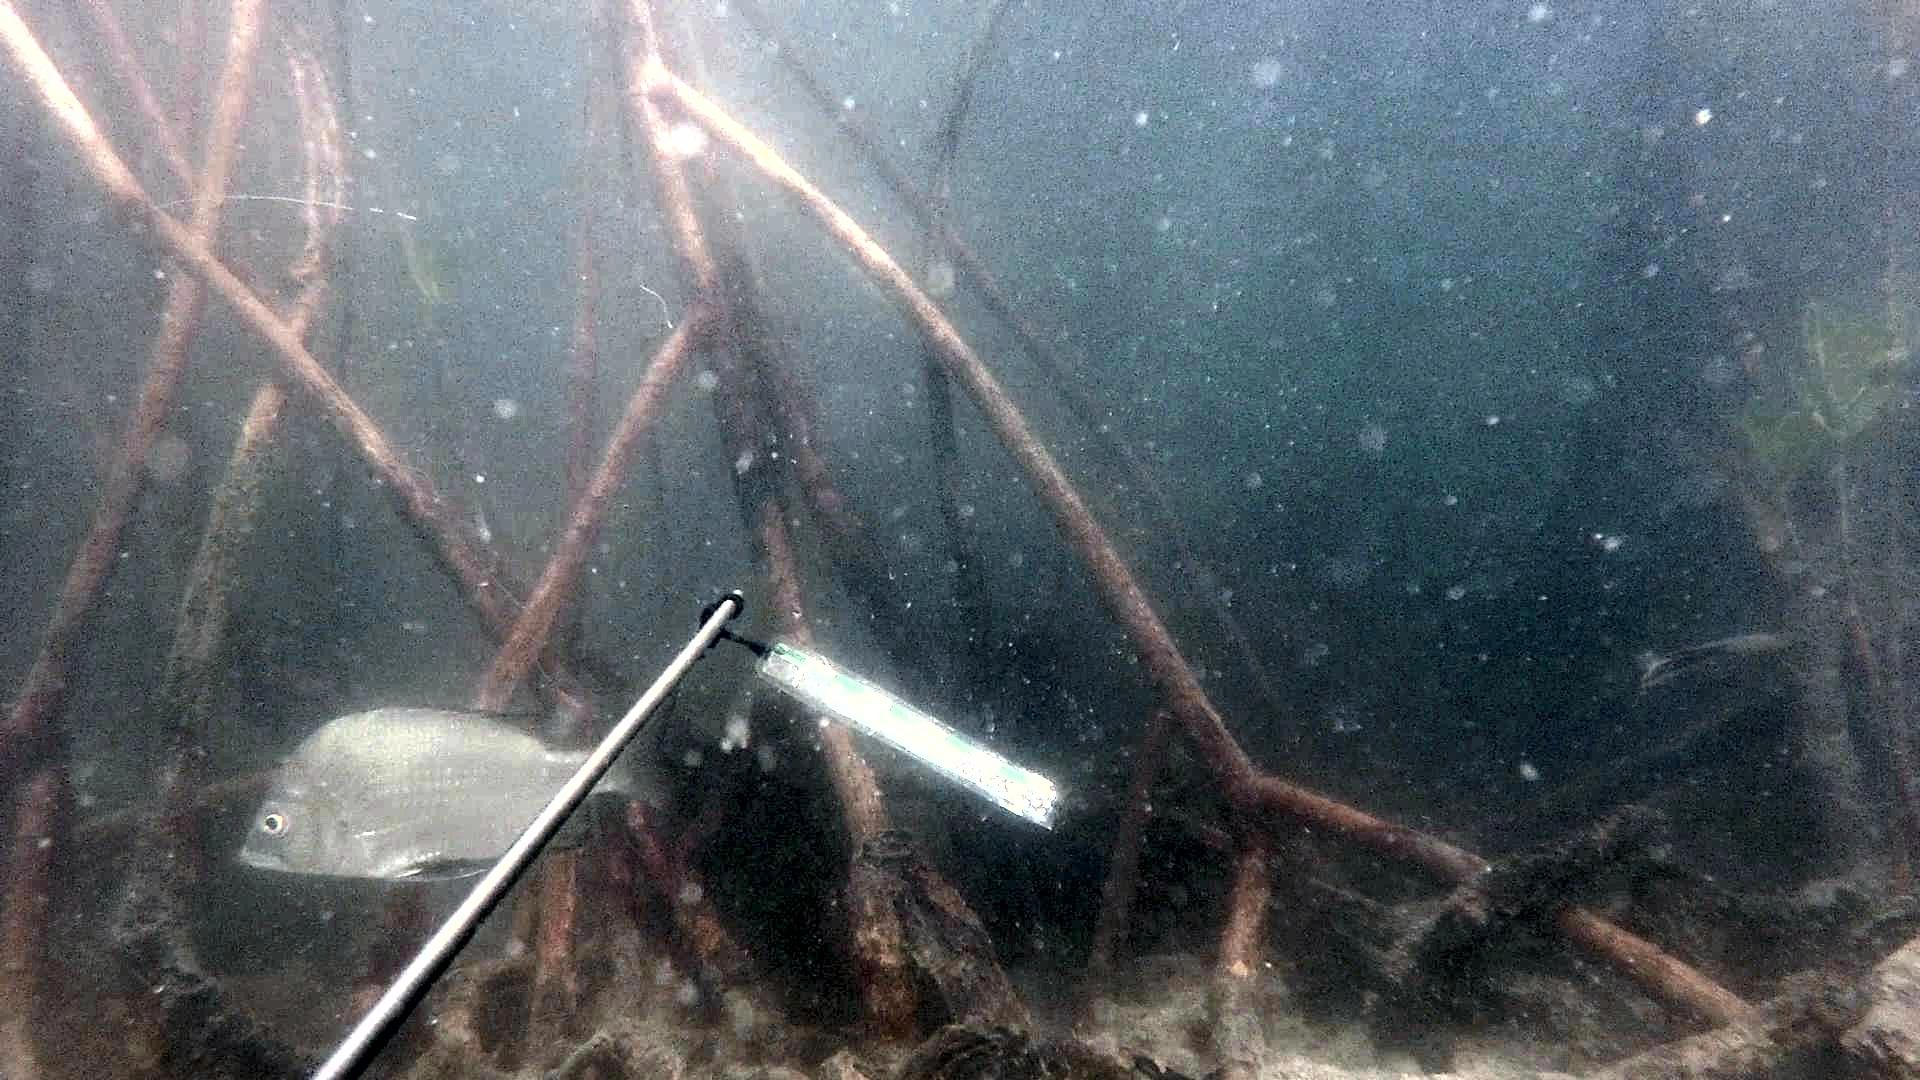acanthopagrus palmaris: (225, 690, 727, 893)
